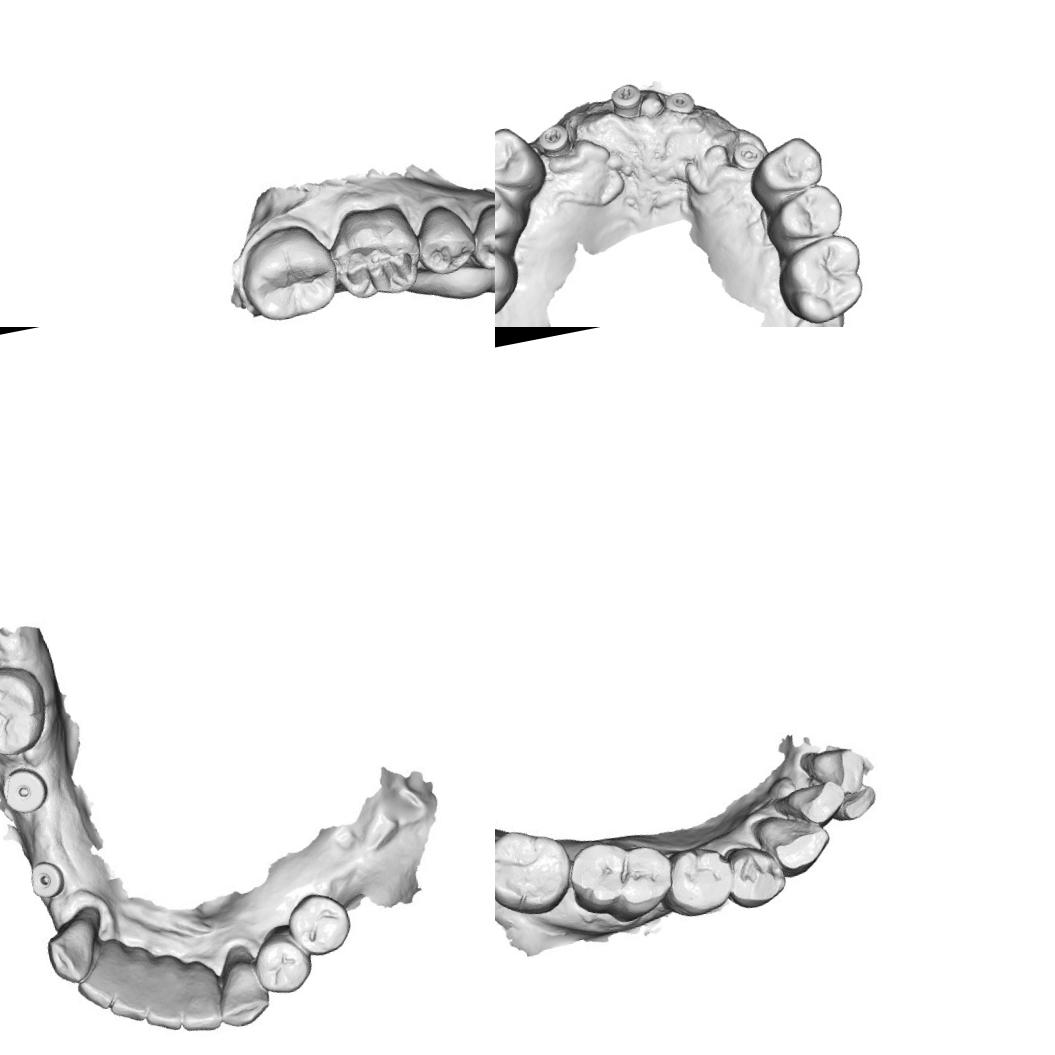canine: (752, 804, 831, 881), (207, 947, 272, 1033), (40, 910, 107, 988)
implant: (20, 850, 78, 904), (0, 761, 48, 816), (660, 87, 699, 120)
implant_minus: (606, 79, 648, 123), (726, 136, 768, 174)
implant_plus: (526, 110, 578, 166)
incisor: (798, 742, 867, 800), (780, 776, 846, 831), (77, 958, 138, 1012), (106, 968, 156, 1021), (143, 982, 195, 1032), (824, 782, 882, 824), (180, 990, 222, 1032)
inlay: (331, 230, 425, 301)
molar: (235, 219, 344, 324), (566, 822, 672, 926), (769, 228, 873, 327), (495, 823, 574, 912), (0, 664, 45, 760), (495, 216, 526, 327)
premolar: (741, 130, 829, 210), (757, 179, 849, 254), (408, 197, 476, 280), (665, 841, 737, 919), (722, 836, 787, 911), (495, 120, 550, 203), (284, 888, 353, 954), (256, 928, 314, 992), (495, 168, 524, 251), (467, 195, 495, 273)
